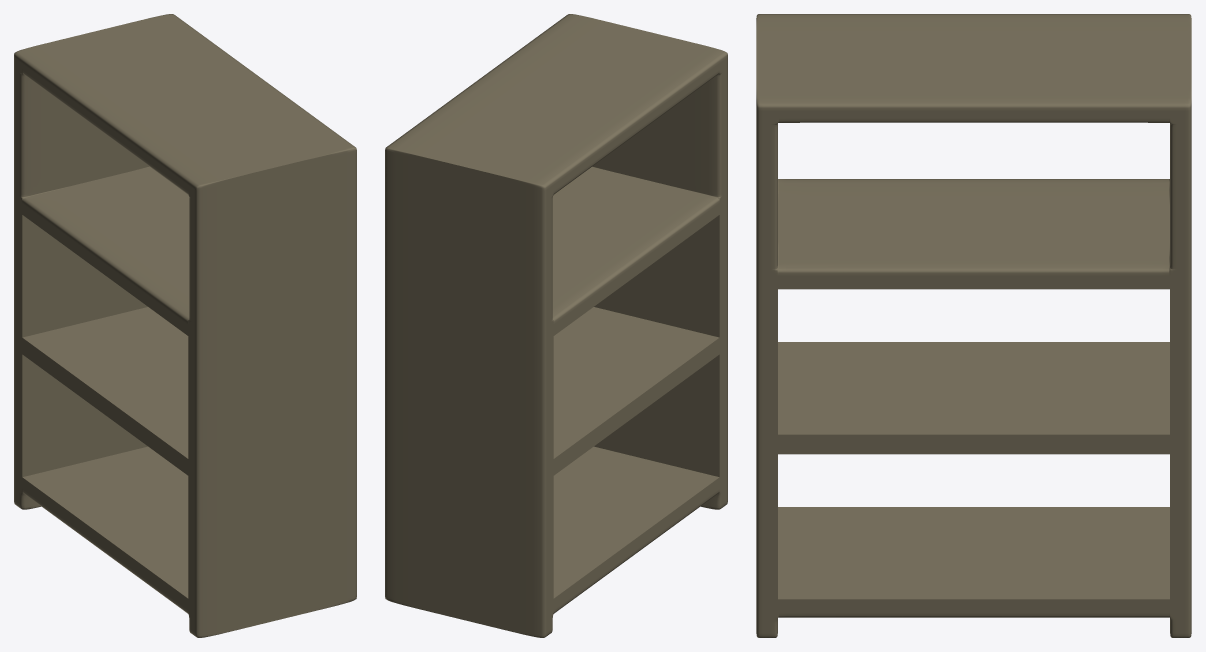
The model's file is Kütüphane.fbx.
The picture shows the model from 3 angles, left to right: view 1: azimuth 30°, elevation 25°; view 2: azimuth 150°, elevation 25°; view 3: azimuth 270°, elevation 25°; orthographic projection. The views are drawn at different scales.
Visible parts, largest first — view 1: Cube; view 2: Cube; view 3: Cube.
Boxes of the visible parts, left/top/right/bottom form: Cube: left=14, top=14, right=356, bottom=637; Cube: left=385, top=14, right=727, bottom=637; Cube: left=756, top=14, right=1191, bottom=637.
Bounding box in the file's own units: 2 × 5.4 × 3.99.
